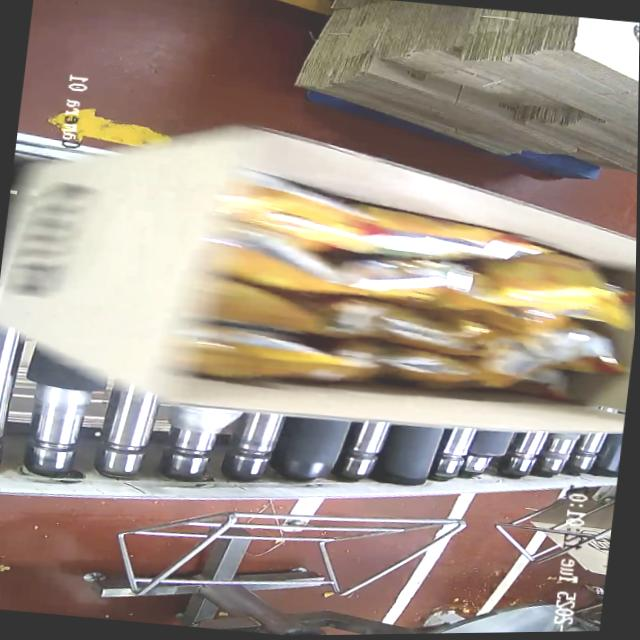FRENCH_CHEESE: (207, 182, 637, 420)
